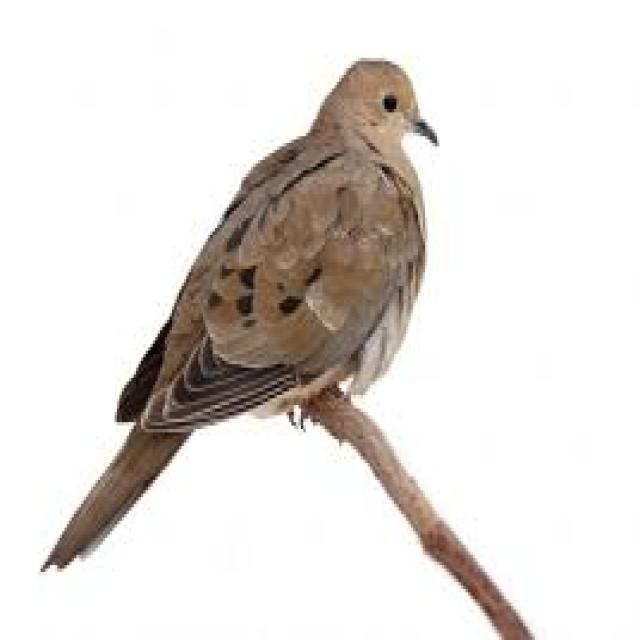pigeon: (42, 49, 431, 595)
